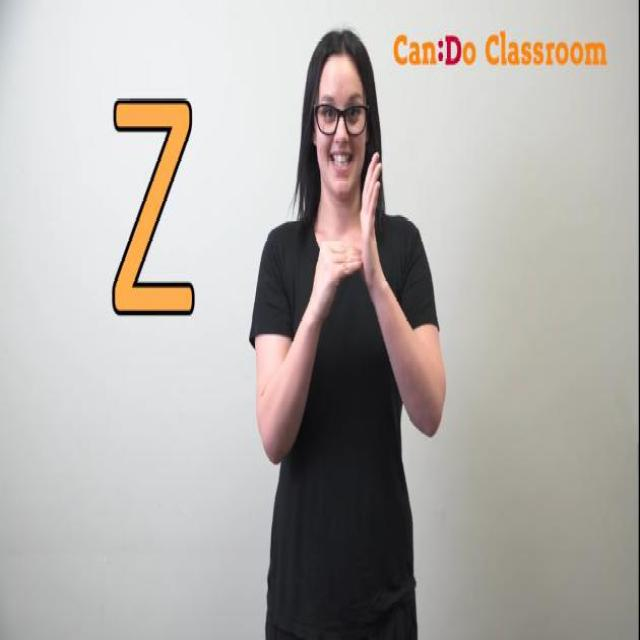Z: (308, 149, 386, 298)
